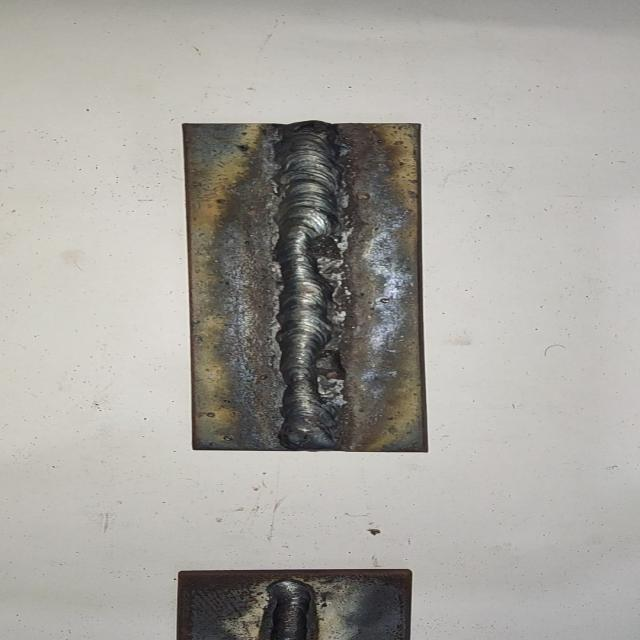Defect: (304, 338, 356, 420), (301, 230, 350, 289)
Welding Line: (280, 128, 338, 448), (270, 582, 312, 640)
Workpiece: (174, 116, 440, 456), (171, 566, 421, 640)
